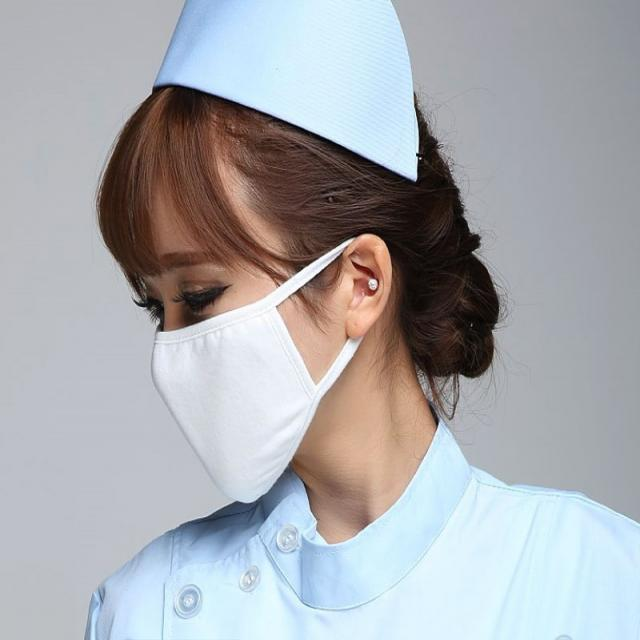mask: (128, 158, 331, 466)
